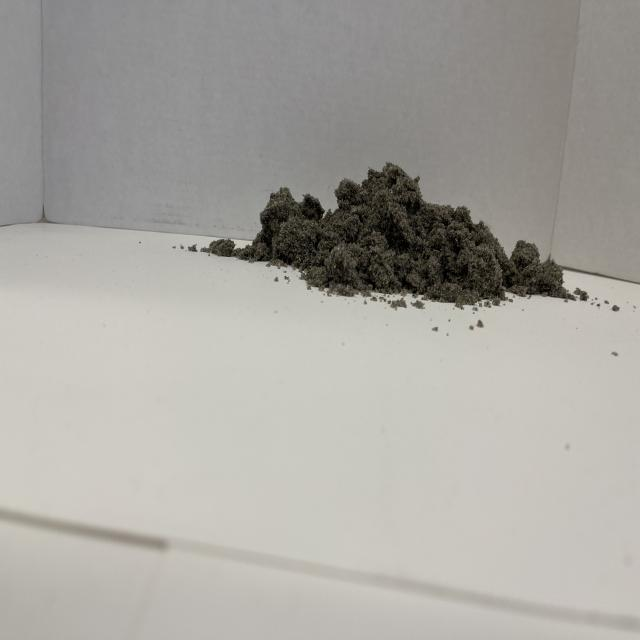sand: (231, 151, 542, 309)
